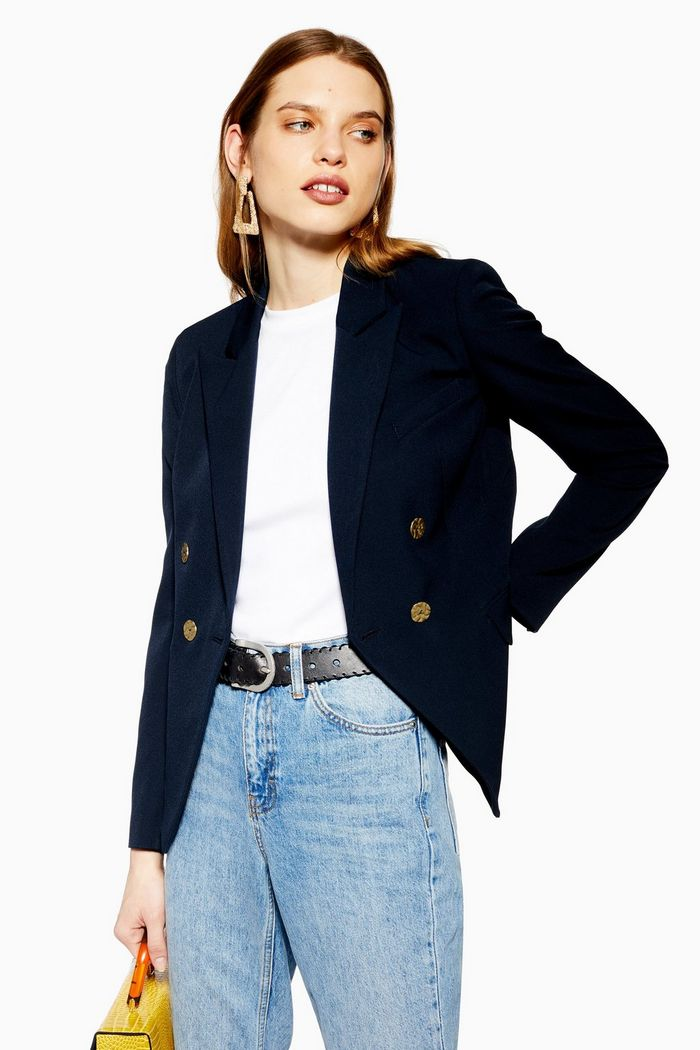F_W_suit jacket: (122, 240, 662, 826)
